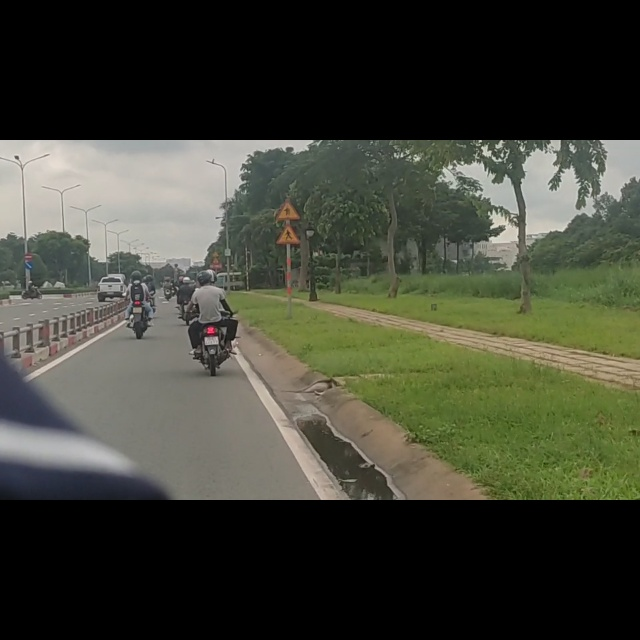bien_cam: (276, 149, 301, 186), (277, 105, 301, 142), (25, 200, 33, 215), (25, 215, 33, 230)
